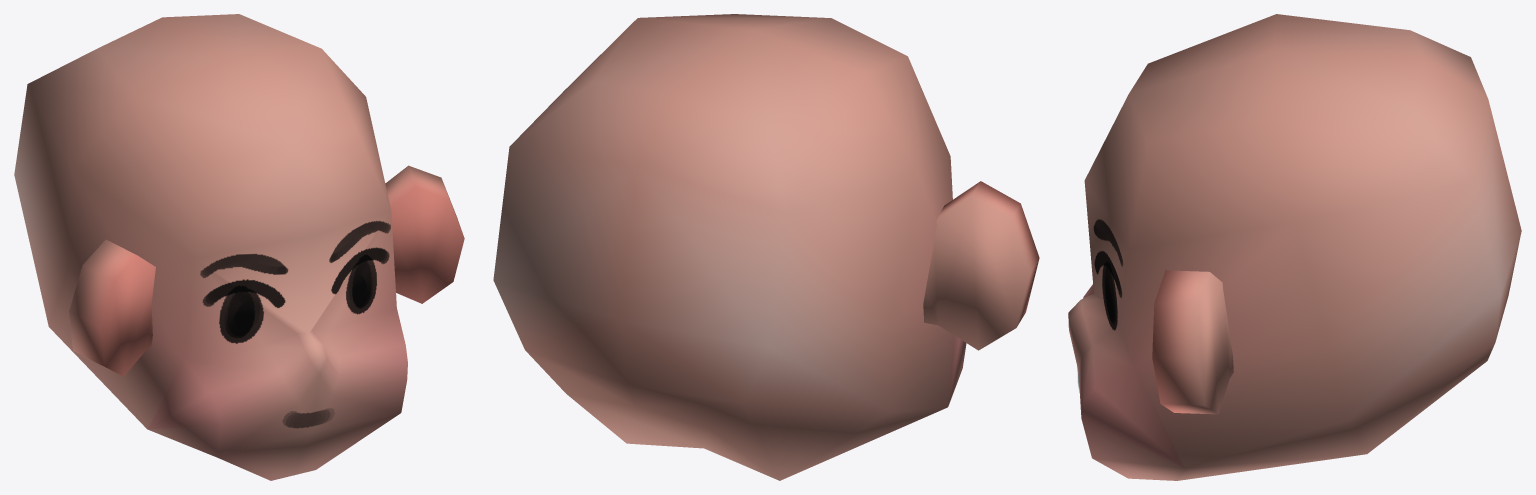
Rendered from FaceA.glb.
3 renders of one model, left to right at view 1: azimuth 30°, elevation 25°; view 2: azimuth 150°, elevation 25°; view 3: azimuth 270°, elevation 25°, orthographic. The views are drawn at different scales.
Visible parts, largest first — view 1: Skin_Head, Skin_Ears, Eyes, Eyebrows, Mouth; view 2: Skin_Head, Skin_Ears; view 3: Skin_Head, Skin_Ears, Eyes.
Part boxes in pixels (x1,y1,x2,y2): Skin_Head: [14, 14, 407, 480]; Skin_Ears: [69, 165, 464, 376]; Eyes: [202, 247, 389, 343]; Eyebrows: [200, 221, 390, 277]; Mouth: [283, 409, 334, 428]; Skin_Head: [493, 14, 966, 480]; Skin_Ears: [923, 181, 1039, 350]; Skin_Head: [1068, 14, 1521, 480]; Skin_Ears: [1152, 270, 1233, 414]; Eyes: [1094, 251, 1122, 330].
Size of the model in its own units: 0.703 by 0.6365 by 0.6321.
Materials: 4 (3 with a texture image).
